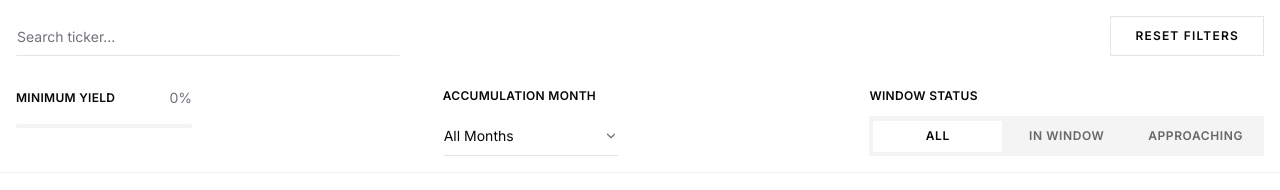
Test case: FilterBar › clears the search box on reset so the old query is not re-applied
The width and height of the screenshot is (1280, 190).
Type "BB" into the field labelled "Search ticker..." at (208, 36), box [16,16,400,56]
Wait 300 ms
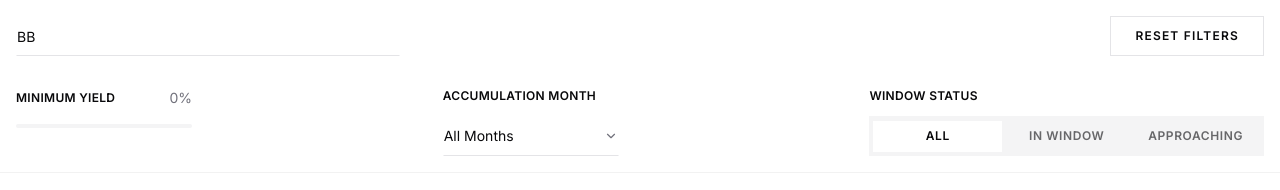
Click the button "Reset Filters" at (1187, 36), box [1110,16,1264,56]
Wait 300 ms
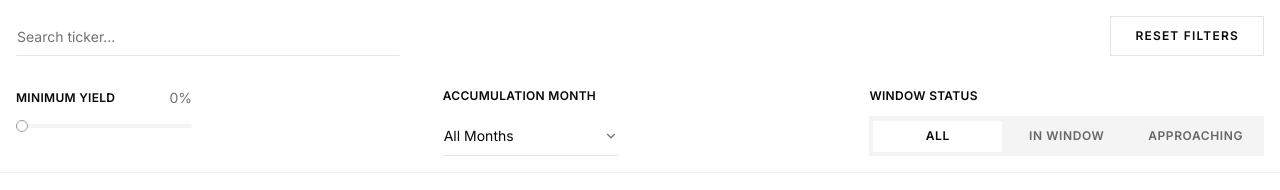
expect the field labelled "Search ticker..." is empty: met, box [16,16,400,56]
